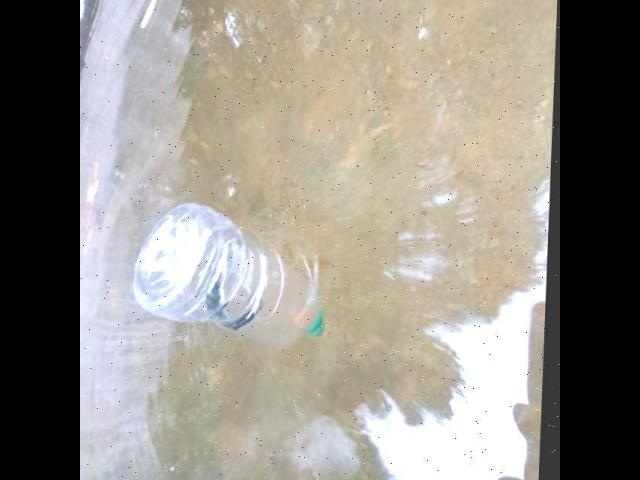Bottle: (126, 194, 342, 356)
